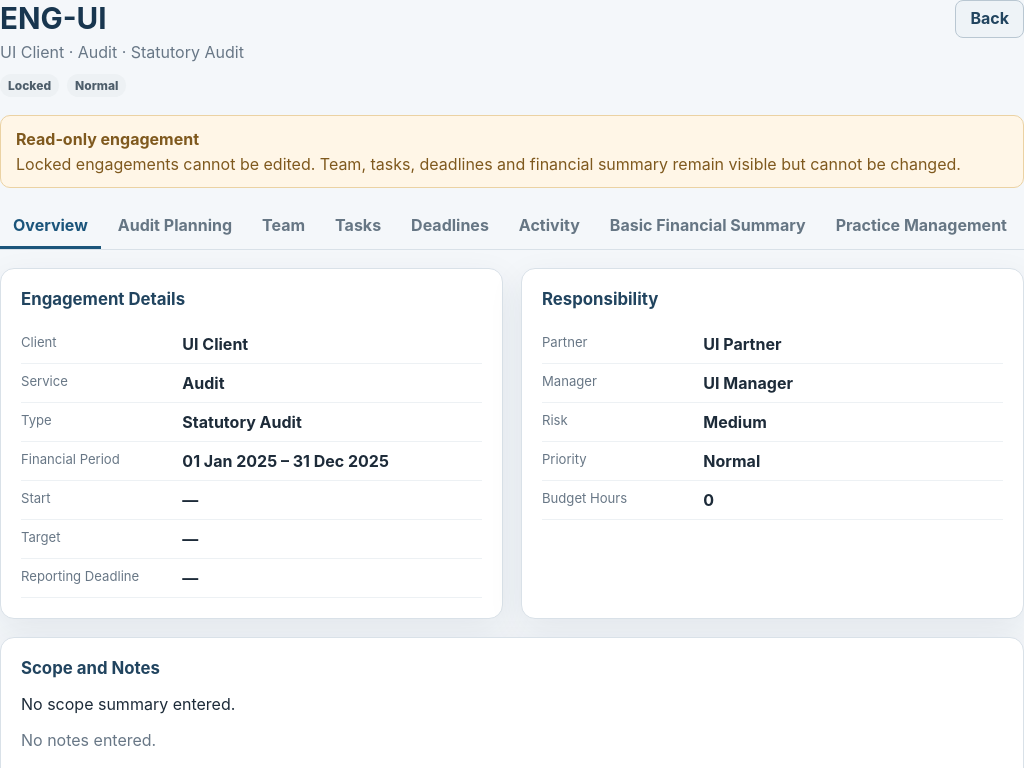
Scenario: React component interaction › shows a Locked engagement workspace as read-only and hides mutation controls
Expected: the text "Read-only engagement" is shown, [16,129,199,149]
Click the button "Team" at (284, 226), box [249,204,318,249]
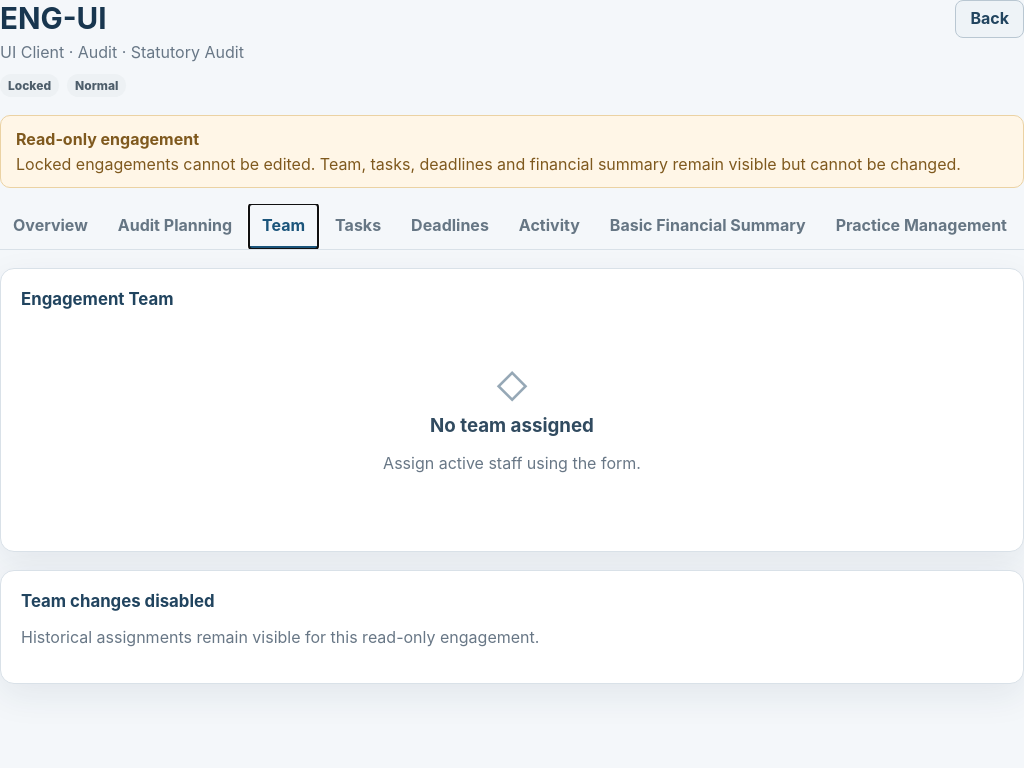
Expected: the heading "Team changes disabled" is shown, [21,591,214,611]
